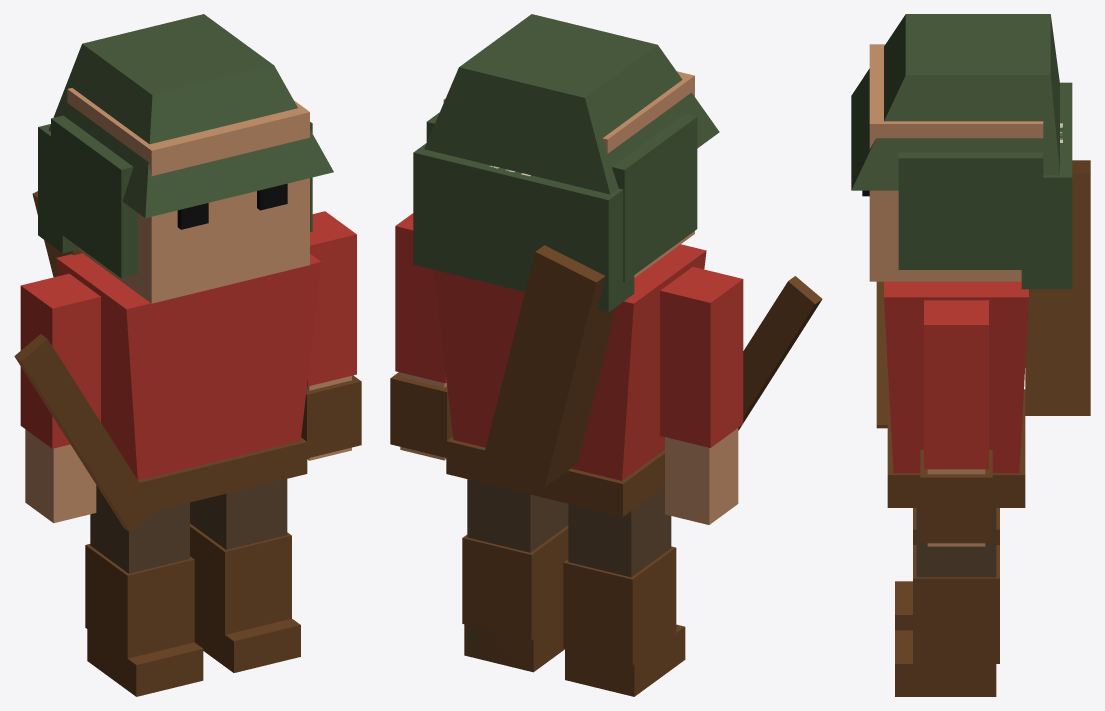
The model's file is Archer.obj.
3 renders of one model, left to right at view 1: azimuth 30°, elevation 25°; view 2: azimuth 150°, elevation 25°; view 3: azimuth 270°, elevation 25°, orthographic. The views are drawn at different scales.
Parts seen in each view (by area): view 1: Head, Torso, LegL, LegR, ArmL, ArmR; view 2: Head, Torso, LegL, ArmL, LegR, ArmR; view 3: Head, Torso, ArmR, LegR, LegL.
Part boxes in pixels (x1,y1,x2,y2): Head: (38, 14, 333, 303); Torso: (14, 191, 321, 532); LegL: (85, 486, 203, 696); LegR: (190, 479, 300, 672); ArmL: (20, 273, 100, 523); ArmR: (301, 211, 361, 460); Head: (413, 14, 719, 312); Torso: (434, 166, 822, 516); LegL: (563, 486, 685, 696); ArmL: (660, 267, 743, 524); LegR: (462, 479, 568, 672); ArmR: (390, 213, 452, 460); Head: (851, 14, 1072, 289); Torso: (876, 123, 1090, 507); ArmR: (920, 300, 992, 546); LegR: (895, 508, 999, 696); LegL: (895, 508, 999, 630).
Size of the model in its own units: 0.5933 by 0.93 by 0.33.
